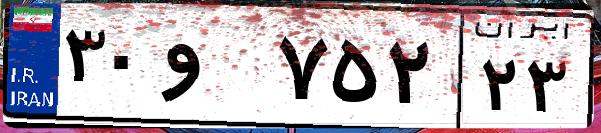0: (110, 28, 158, 98)
2: (385, 28, 445, 110), (475, 38, 525, 113)
3: (57, 26, 110, 100), (525, 38, 570, 115)
5: (330, 28, 385, 110)
7: (270, 28, 330, 110)
و: (158, 20, 270, 120)
